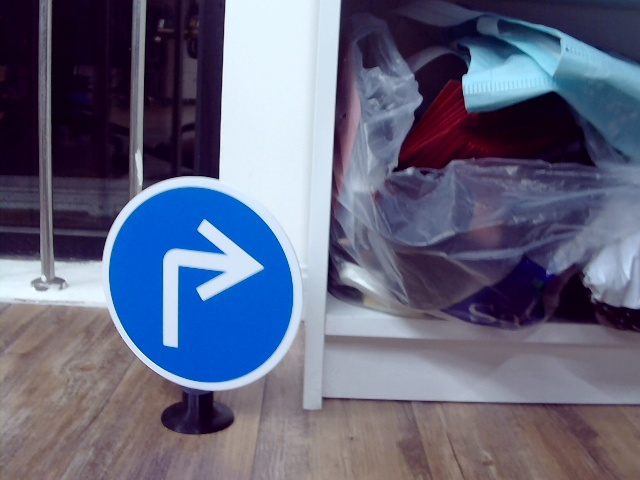turn_right: (142, 213, 261, 349)
